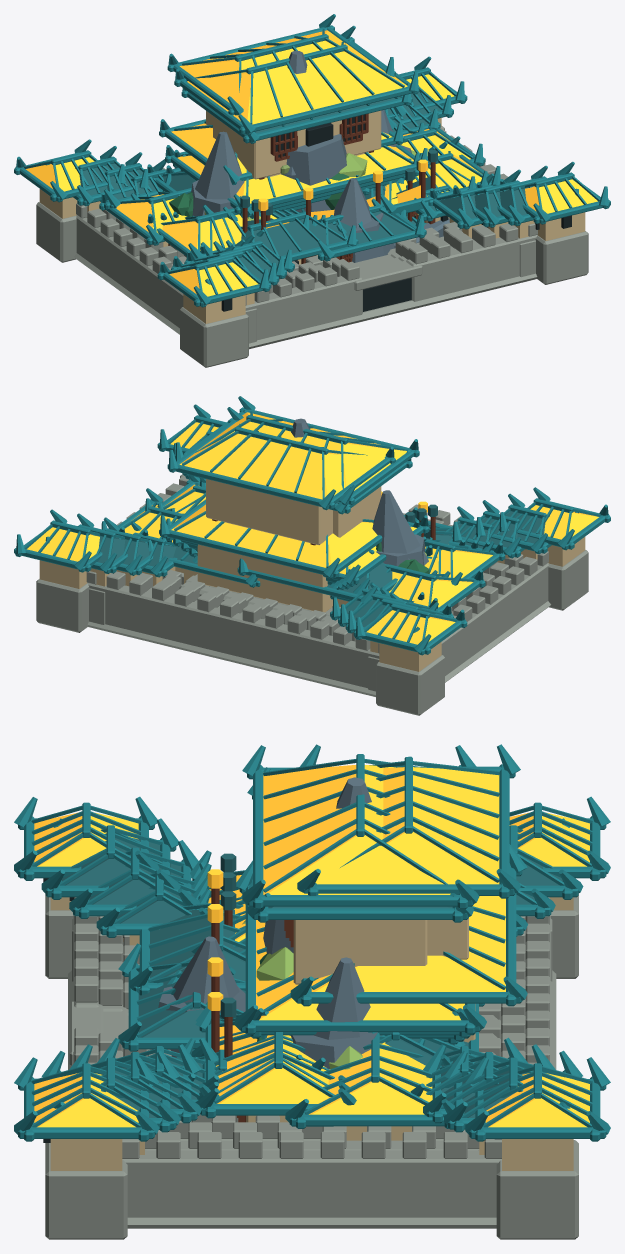
The model's file is arena-kit.glb.
3 views of the same model, one above another, from view 1: azimuth 30°, elevation 25°; view 2: azimuth 150°, elevation 25°; view 3: azimuth 270°, elevation 25° (orthographic). The views are drawn at different scales.
Parts seen in each view (by area): view 1: imperial--weathered-limestone, imperial--roof-tile-edges, imperial--imperial-amber-glaze, mountain--mountain-slate, stronghold--roof-tile-edges, imperial--ivory-plaster, citadel--roof-tile-edges, stronghold--weathered-limestone, fort--roof-tile-edges, village-b--roof-tile-edges, imperial--recessed-doorways, village-b--glazed-slate-jade (+9 smaller); view 2: imperial--weathered-limestone, imperial--roof-tile-edges, imperial--imperial-amber-glaze, imperial--ivory-plaster, stronghold--roof-tile-edges, stronghold--weathered-limestone, citadel--roof-tile-edges, mountain--mountain-slate, village-b--roof-tile-edges, fort--roof-tile-edges, stronghold--glazed-slate-jade, citadel--glazed-slate-jade (+3 smaller); view 3: imperial--roof-tile-edges, imperial--weathered-limestone, imperial--imperial-amber-glaze, stronghold--roof-tile-edges, imperial--ivory-plaster, citadel--roof-tile-edges, stronghold--weathered-limestone, mountain--mountain-slate, fort--roof-tile-edges, village-b--roof-tile-edges, stronghold--glazed-slate-jade, village-a--roof-tile-edges (+7 smaller).
Boxes of the visible parts, x1,y1,x2,y2 form: imperial--weathered-limestone: [36, 126, 588, 367]; imperial--roof-tile-edges: [14, 14, 610, 307]; imperial--imperial-amber-glaze: [26, 30, 597, 296]; mountain--mountain-slate: [191, 51, 449, 262]; stronghold--roof-tile-edges: [46, 39, 578, 285]; imperial--ivory-plaster: [39, 110, 585, 323]; citadel--roof-tile-edges: [100, 105, 520, 278]; stronghold--weathered-limestone: [101, 210, 535, 343]; fort--roof-tile-edges: [130, 113, 494, 272]; village-b--roof-tile-edges: [147, 153, 469, 261]; imperial--recessed-doorways: [221, 114, 571, 311]; village-b--glazed-slate-jade: [162, 171, 435, 256]; imperial--weathered-limestone: [36, 474, 588, 715]; imperial--roof-tile-edges: [14, 396, 610, 655]; imperial--imperial-amber-glaze: [27, 412, 598, 644]; imperial--ivory-plaster: [39, 479, 585, 671]; stronghold--roof-tile-edges: [45, 410, 578, 633]; stronghold--weathered-limestone: [89, 519, 523, 691]; citadel--roof-tile-edges: [103, 476, 524, 626]; mountain--mountain-slate: [291, 418, 428, 566]; village-b--roof-tile-edges: [148, 505, 452, 602]; fort--roof-tile-edges: [130, 480, 494, 620]; stronghold--glazed-slate-jade: [90, 502, 545, 627]; citadel--glazed-slate-jade: [116, 508, 518, 620]; imperial--roof-tile-edges: [14, 744, 610, 1141]; imperial--weathered-limestone: [45, 893, 578, 1239]; imperial--imperial-amber-glaze: [34, 765, 589, 1127]; stronghold--roof-tile-edges: [41, 767, 583, 1132]; imperial--ivory-plaster: [50, 897, 573, 1170]; citadel--roof-tile-edges: [69, 840, 555, 1123]; stronghold--weathered-limestone: [72, 916, 552, 1150]; mountain--mountain-slate: [150, 777, 381, 1068]; fort--roof-tile-edges: [96, 861, 527, 1102]; village-b--roof-tile-edges: [129, 900, 484, 1081]; stronghold--glazed-slate-jade: [61, 838, 562, 1117]; village-a--roof-tile-edges: [118, 943, 452, 1065].
Bounding box in the file's own units: 4.05 × 1.85 × 3.21.
